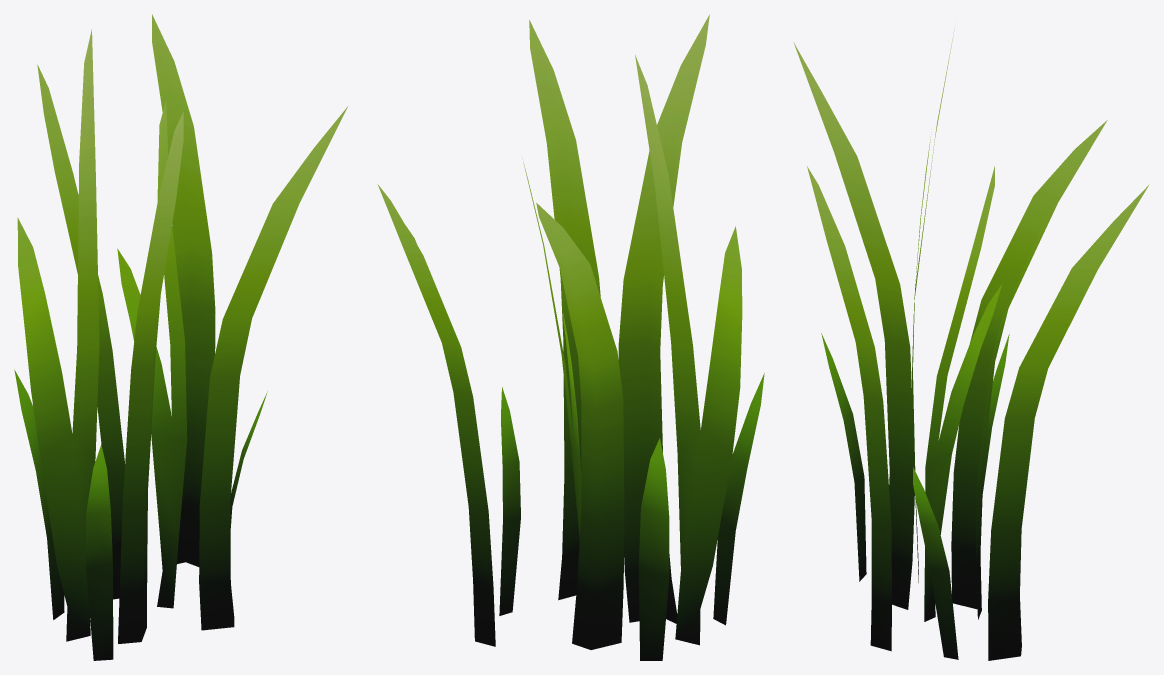
The model's file is Grass_Common_Short.gltf.
3 renders of one model, left to right at view 1: azimuth 30°, elevation 25°; view 2: azimuth 150°, elevation 25°; view 3: azimuth 270°, elevation 25°, orthographic. The views are drawn at different scales.
Visible parts, largest first — view 1: Grass_Common_Short; view 2: Grass_Common_Short; view 3: Grass_Common_Short.
Boxes of the visible parts, box(x1,y1,x2,y2) form: Grass_Common_Short: box(14, 14, 347, 660); Grass_Common_Short: box(377, 14, 764, 660); Grass_Common_Short: box(793, 27, 1149, 660).
Bounding box in the file's own units: 0.6388 × 1.33 × 0.7373.
1 material, 1 textured.
